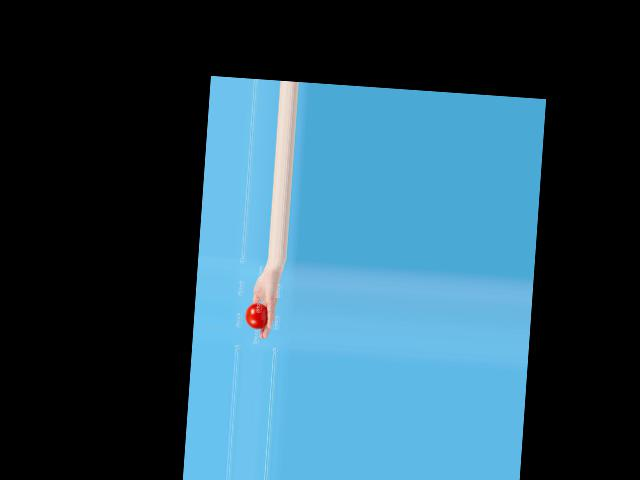tomato: (244, 302, 268, 329)
